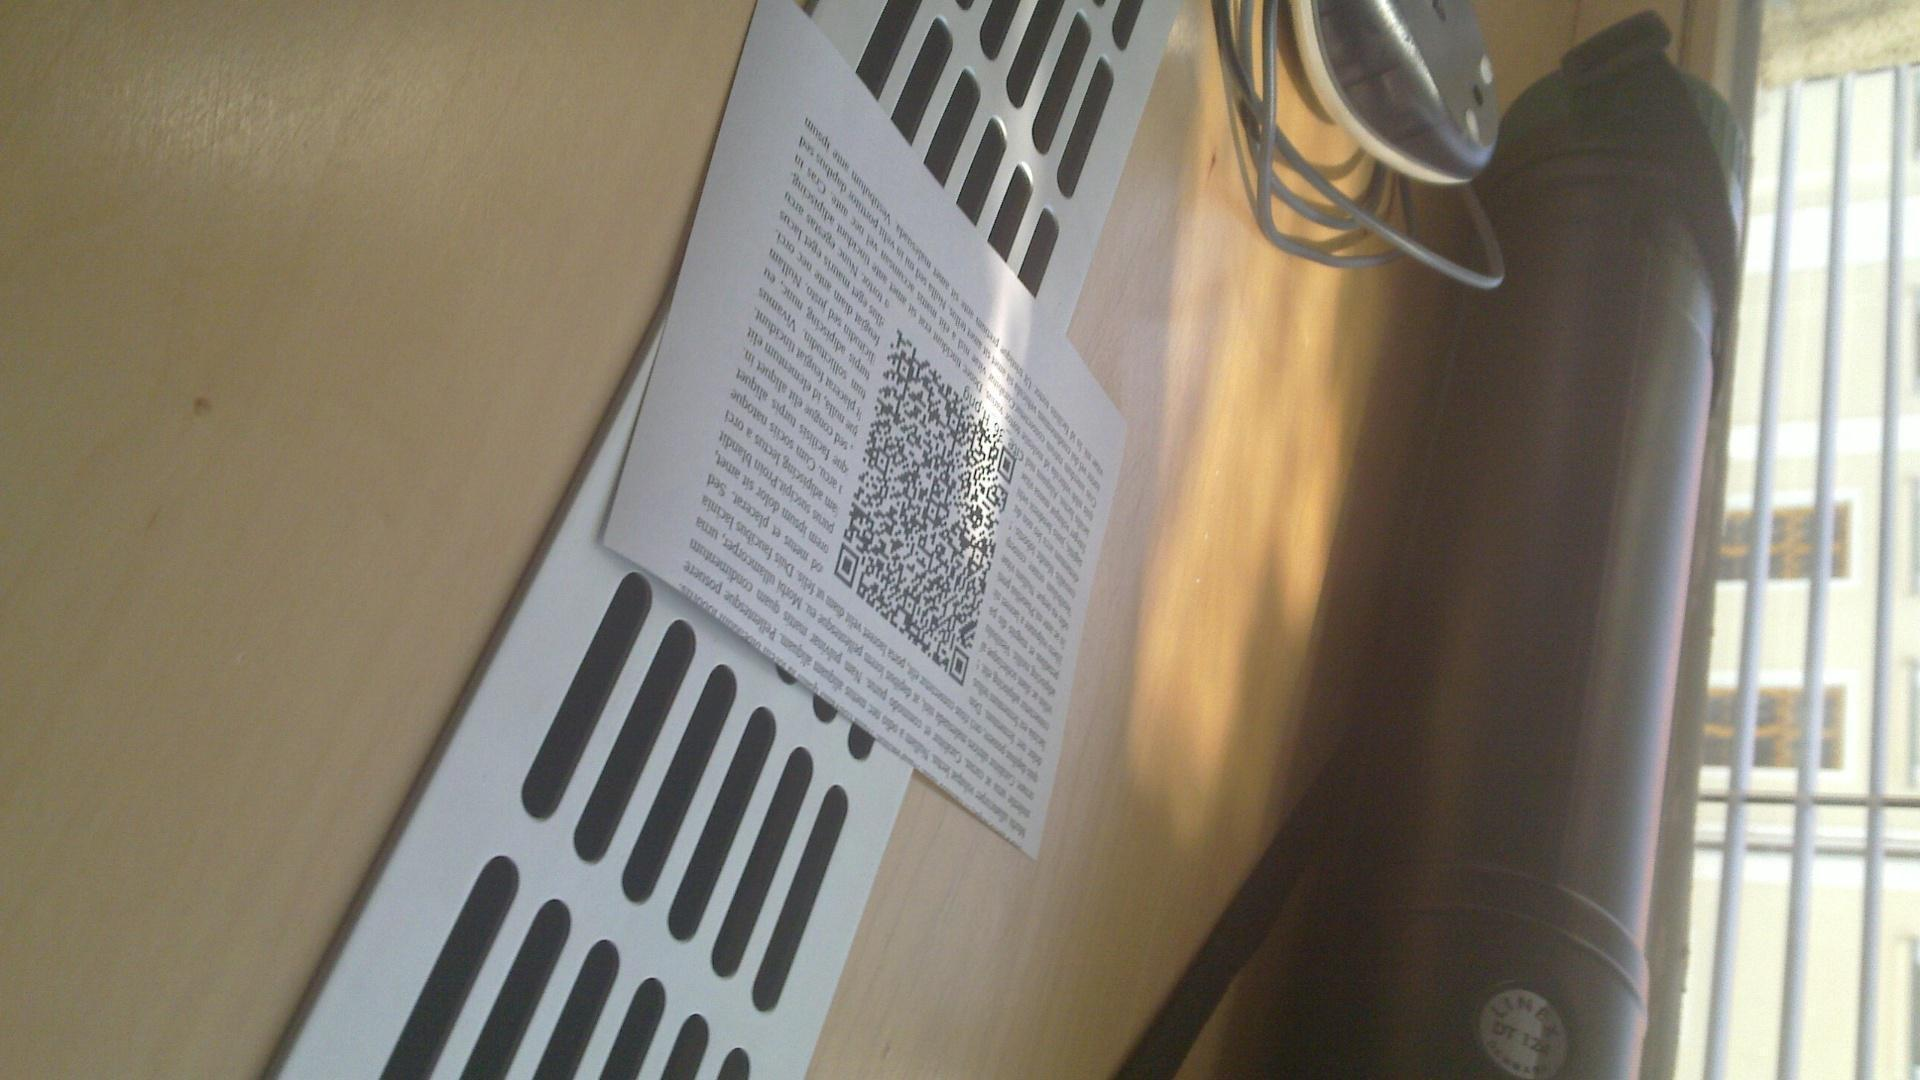qr_code: (833, 328, 1015, 687)
